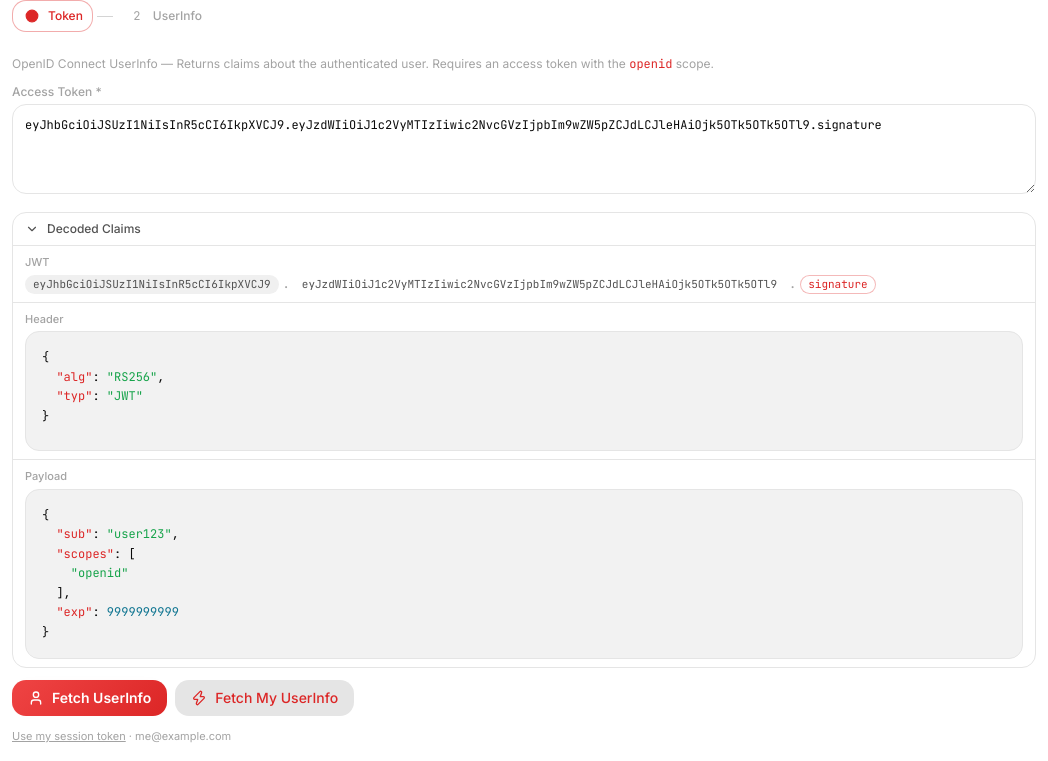
Test: UserInfoFlow — interactions › collapses and expands the decoded claims
The image size is (1048, 761).
Expected: the text "Header" is shown, 25,312 -> 64,326
Click the button "Decoded Claims": (94, 228) 13,213 -> 1035,245
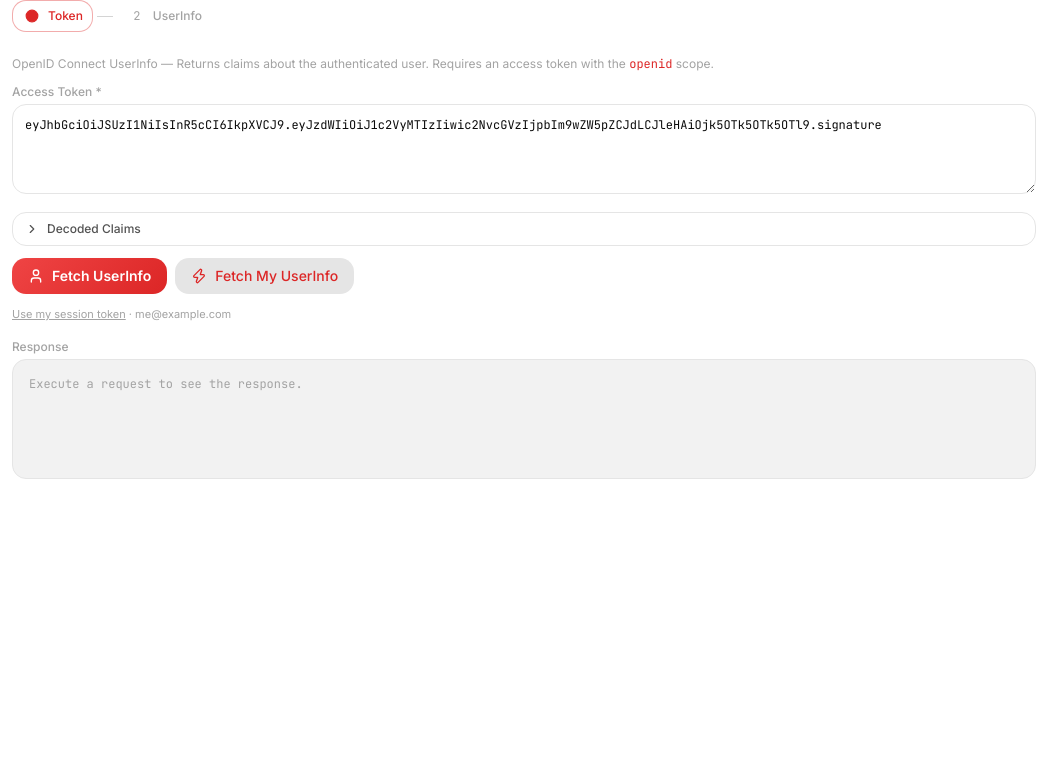
Expected: the text "Header" is gone
Click the button "Decoded Claims": (94, 228) 13,213 -> 1035,245
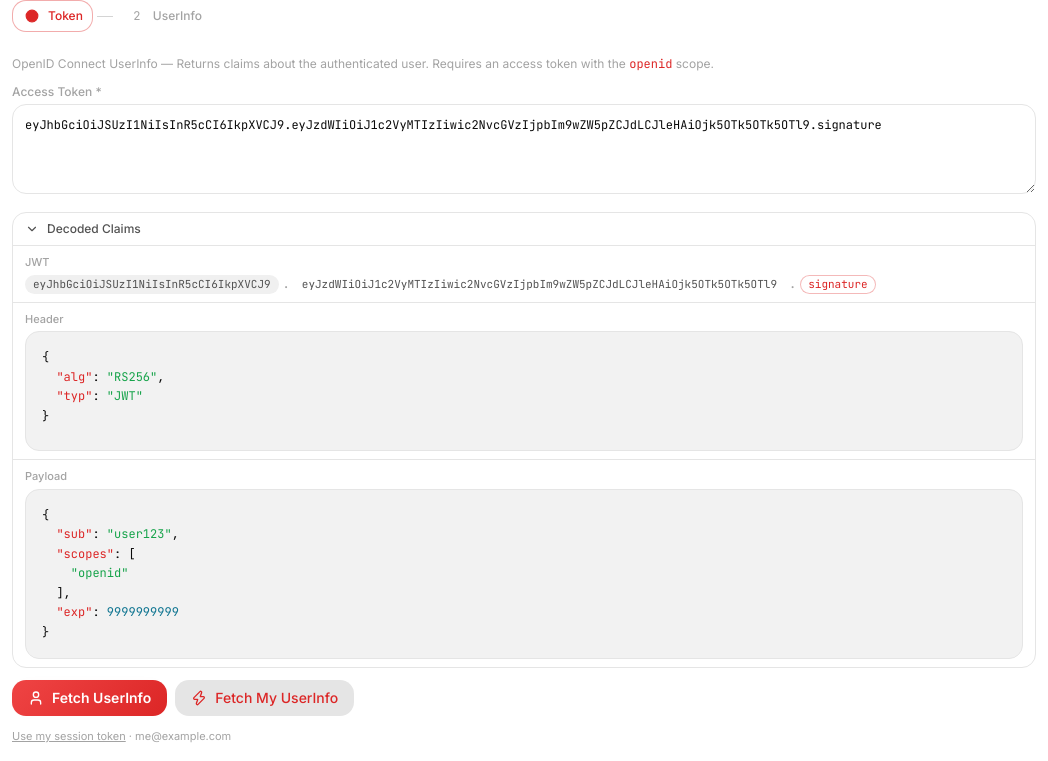
Expected: the text "Header" is shown, 25,312 -> 64,326
